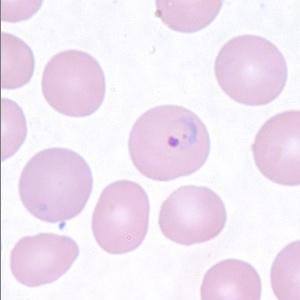Infected: (128, 104, 210, 182)
Uninfected: (19, 149, 92, 223), (214, 33, 286, 106), (90, 178, 149, 254), (159, 185, 228, 247), (43, 50, 106, 117), (9, 233, 81, 287), (253, 110, 300, 186), (200, 258, 262, 300), (0, 32, 34, 88)
